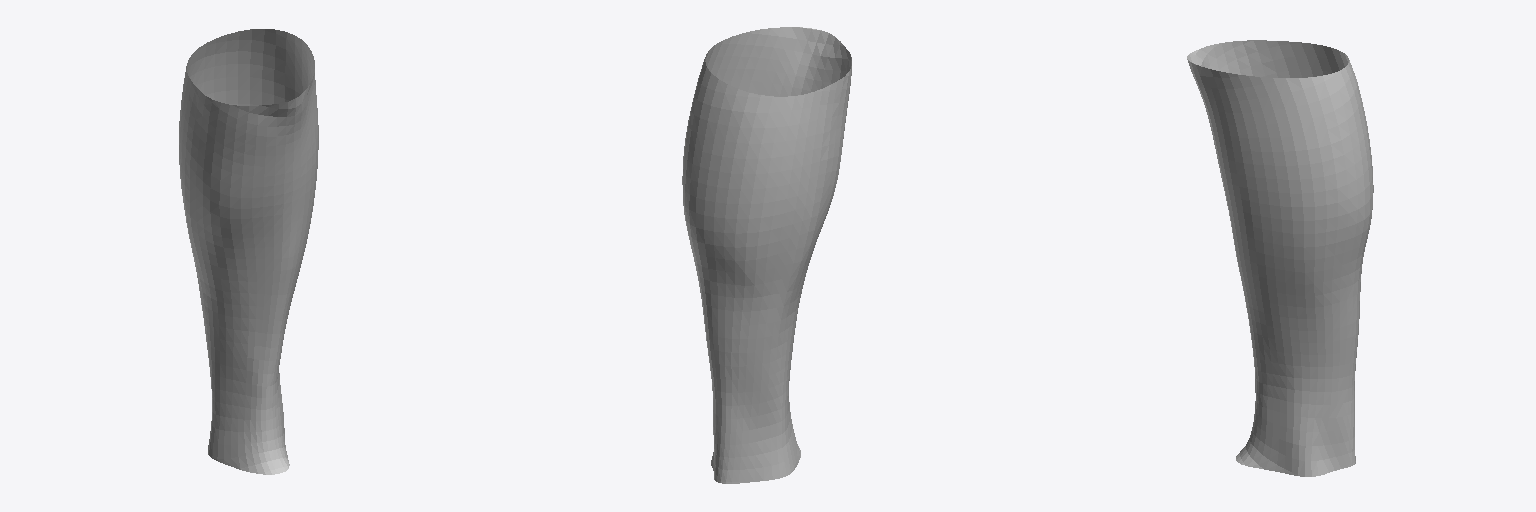
Rendered from gambaS.obj.
3 renders of one model, left to right at view 1: azimuth 30°, elevation 25°; view 2: azimuth 150°, elevation 25°; view 3: azimuth 270°, elevation 25°, orthographic.
Parts seen in each view (by area): view 1: gambaS; view 2: gambaS; view 3: gambaS.
Part boxes in pixels (x1,y1,x2,y2): gambaS: (179, 29, 318, 474); gambaS: (682, 27, 851, 483); gambaS: (1187, 40, 1373, 476).
Size of the model in its own units: 1.46 by 4.46 by 1.88.